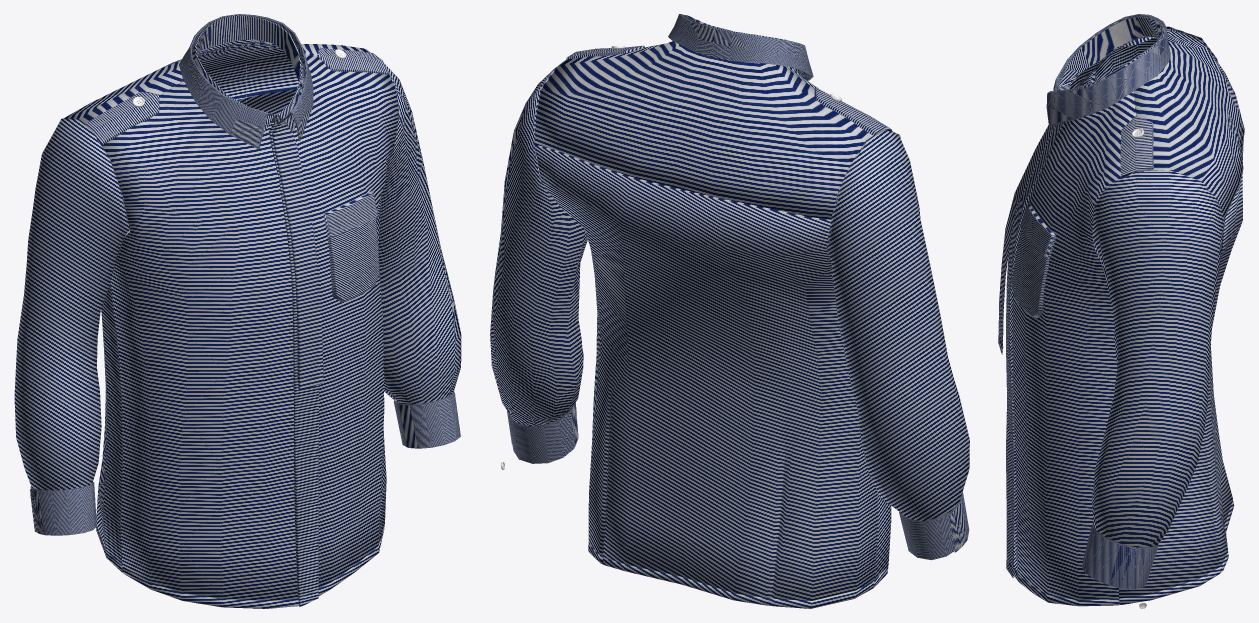
File: shirt.obj
The picture shows the model from 3 angles, left to right: view 1: azimuth 30°, elevation 25°; view 2: azimuth 150°, elevation 25°; view 3: azimuth 270°, elevation 25°; orthographic projection. The views are drawn at different scales.
Visible parts, largest first — view 1: shirts_fitting_standard_bottom_straight, shirts_sleeves_three_quarter, shirts_front_placket_half_placket, shirts_front_placket_placket, shirts_back_bottom_straight_back_darts, shirts_cuff_square, shirts_collar_pinned, shirts_collar_shallow, shirts_pocket_style_angled, shirts_shoulder_strap_yes, shirts_flap_shape_straight; view 2: shirts_back_bottom_straight_back_darts, shirts_sleeves_three_quarter, shirts_fitting_standard_bottom_straight, shirts_cuff_square, shirts_collar_pinned, shirts_shoulder_strap_yes; view 3: shirts_fitting_standard_bottom_straight, shirts_sleeves_three_quarter, shirts_back_bottom_straight_back_darts, shirts_collar_pinned, shirts_cuff_square, shirts_front_placket_placket, shirts_collar_shallow, shirts_pocket_style_angled, shirts_shoulder_strap_yes, shirts_front_placket_half_placket, shirts_flap_shape_straight.
Boxes of the visible parts, <box> form: shirts_fitting_standard_bottom_straight: <box>63,39,398,608</box>; shirts_sleeves_three_quarter: <box>14,63,461,490</box>; shirts_front_placket_half_placket: <box>272,122,323,390</box>; shirts_front_placket_placket: <box>269,121,319,606</box>; shirts_back_bottom_straight_back_darts: <box>96,89,296,572</box>; shirts_cuff_square: <box>30,391,460,535</box>; shirts_collar_pinned: <box>179,14,313,149</box>; shirts_collar_shallow: <box>192,15,304,133</box>; shirts_pocket_style_angled: <box>328,218,379,302</box>; shirts_shoulder_strap_yes: <box>85,47,388,144</box>; shirts_flap_shape_straight: <box>323,191,377,238</box>; shirts_back_bottom_straight_back_darts: <box>533,145,877,608</box>; shirts_sleeves_three_quarter: <box>490,66,969,521</box>; shirts_fitting_standard_bottom_straight: <box>533,41,894,587</box>; shirts_cuff_square: <box>507,402,969,560</box>; shirts_collar_pinned: <box>668,14,813,80</box>; shirts_shoulder_strap_yes: <box>566,45,891,135</box>; shirts_fitting_standard_bottom_straight: <box>1009,28,1244,606</box>; shirts_sleeves_three_quarter: <box>1092,26,1224,547</box>; shirts_back_bottom_straight_back_darts: <box>1119,140,1243,604</box>; shirts_collar_pinned: <box>1046,14,1170,126</box>; shirts_cuff_square: <box>1082,524,1158,589</box>; shirts_front_placket_placket: <box>1006,123,1063,577</box>; shirts_collar_shallow: <box>1056,16,1164,91</box>; shirts_pocket_style_angled: <box>1011,229,1056,317</box>; shirts_shoulder_strap_yes: <box>1120,37,1153,178</box>; shirts_front_placket_half_placket: <box>998,125,1055,354</box>; shirts_flap_shape_straight: <box>1020,204,1055,258</box>.
Bounding box in the file's own units: 0.6324 × 0.7479 × 0.3085.
2 materials, 1 textured.
